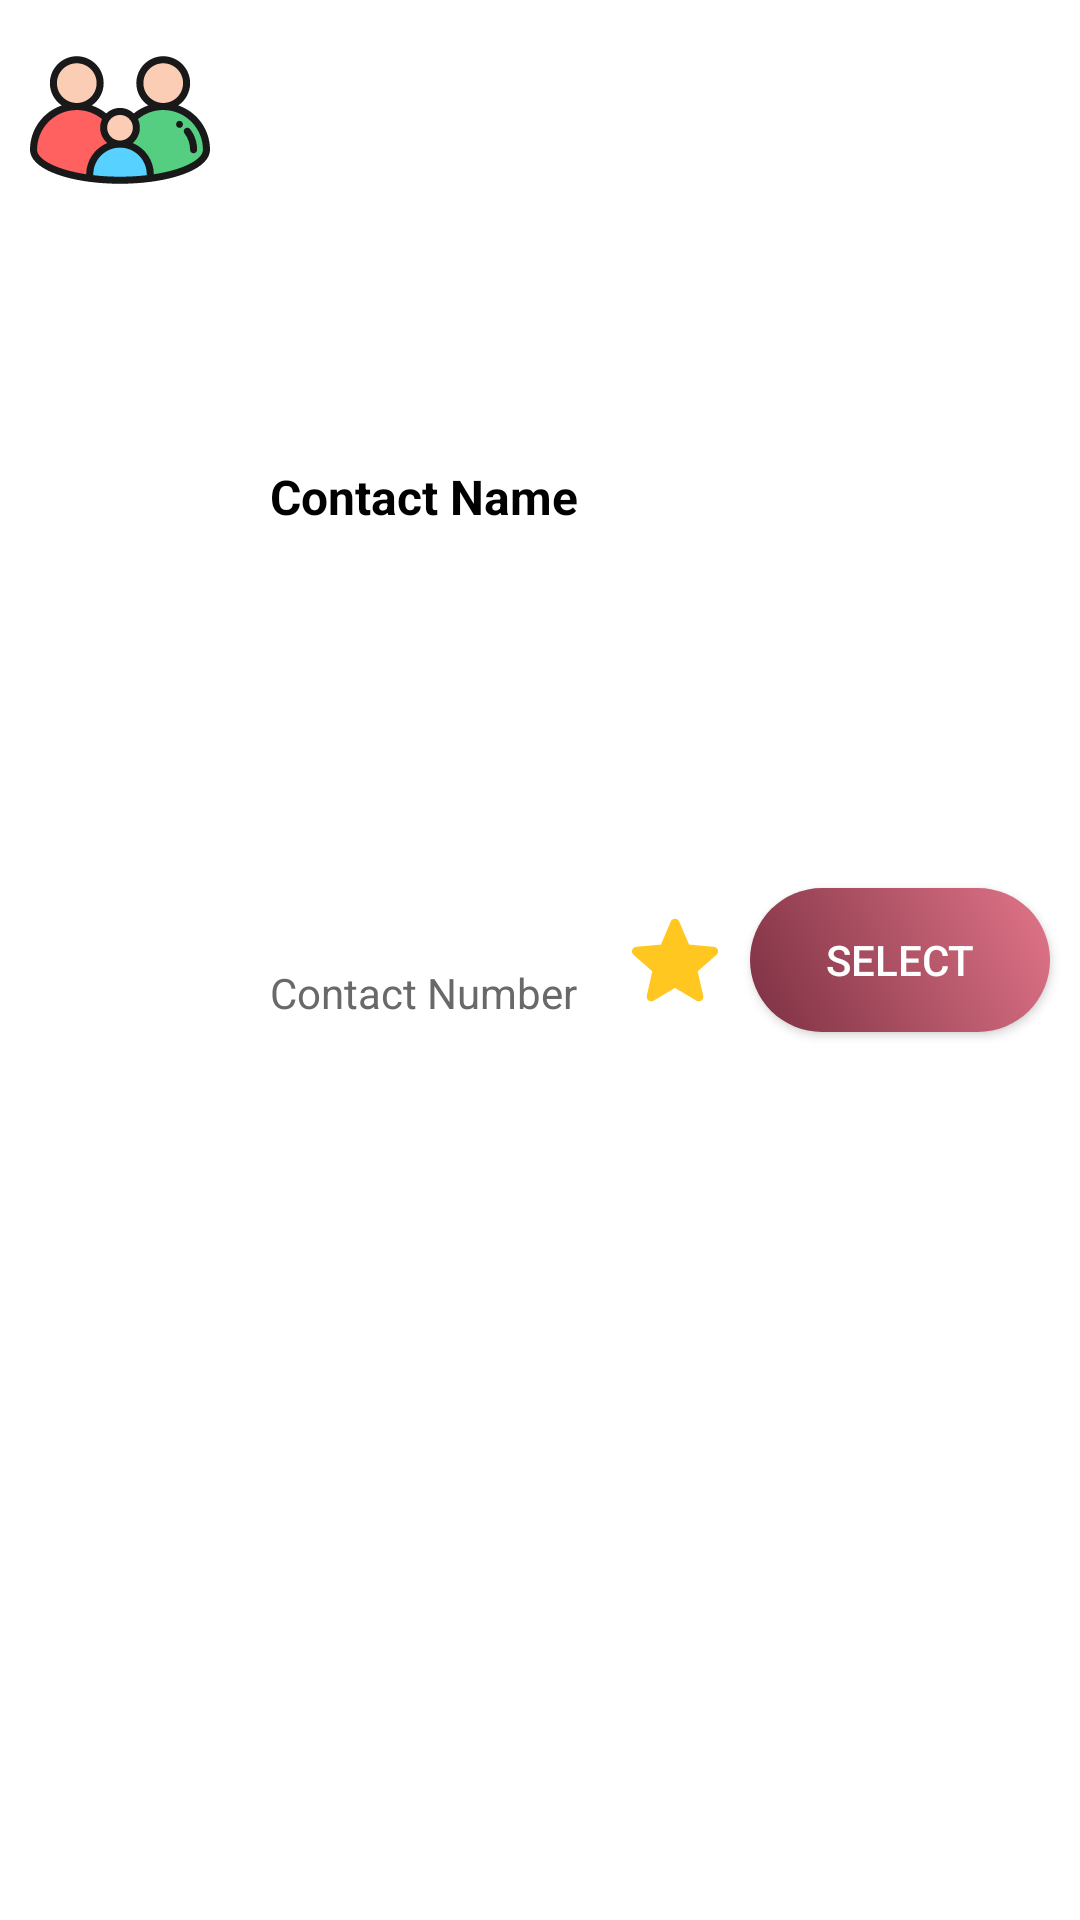

Icon click points for this 1080x1920 phone screenshot, format (x=x, y=y):
emergency contacts: (x=120, y=120)
star: (x=675, y=960)
